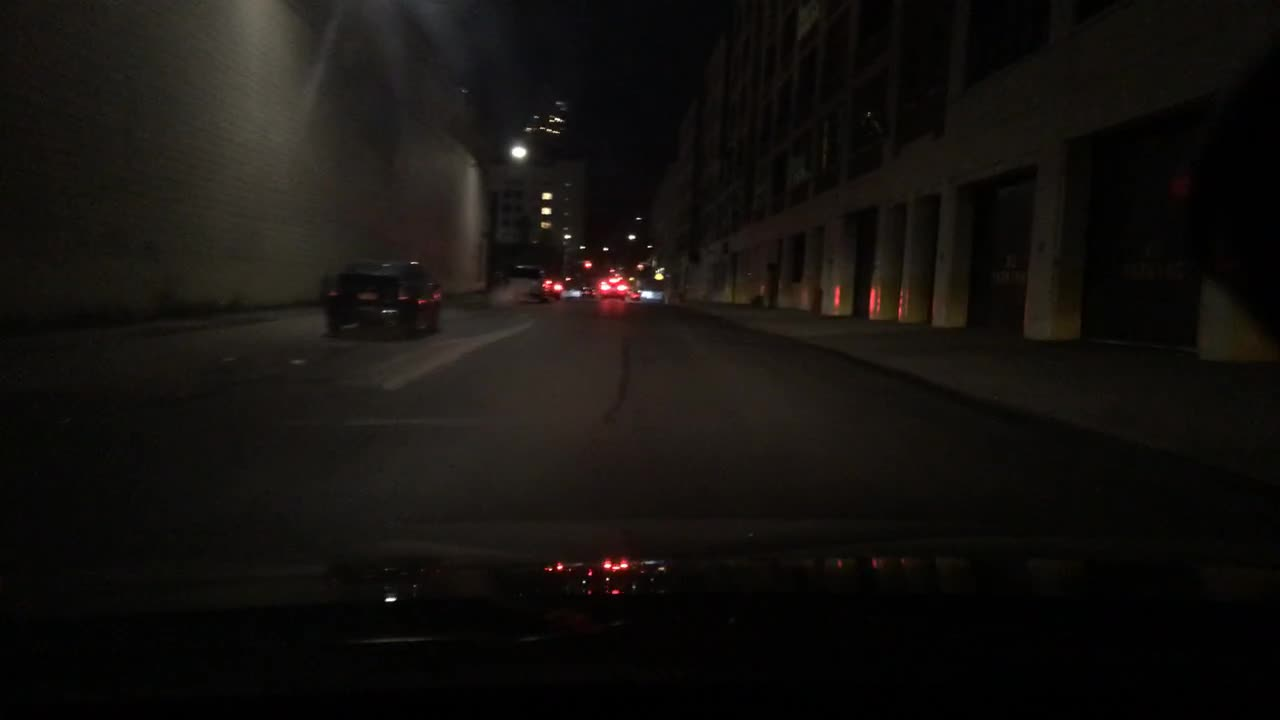car: (317, 258, 445, 335), (502, 263, 544, 299), (597, 277, 627, 299), (543, 274, 562, 302), (558, 276, 581, 298), (627, 290, 641, 301), (580, 285, 592, 296)
